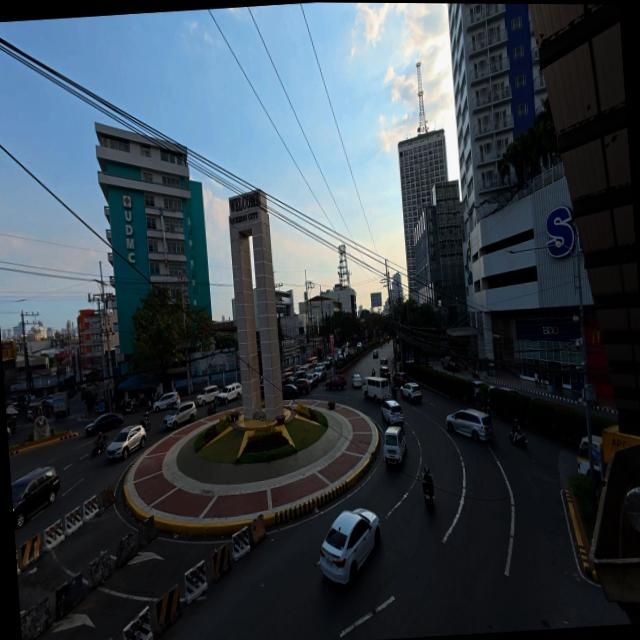car: (320, 509, 380, 585), (11, 466, 60, 528), (446, 408, 494, 441), (107, 425, 146, 460), (163, 402, 197, 429), (85, 413, 123, 437), (382, 400, 404, 425), (154, 391, 180, 412), (400, 382, 422, 402), (326, 374, 346, 390), (27, 401, 43, 419), (293, 378, 311, 394), (473, 380, 486, 400), (443, 356, 460, 371), (289, 370, 306, 384), (393, 372, 410, 386), (282, 385, 298, 399), (306, 373, 319, 388), (498, 387, 520, 395), (315, 365, 326, 381), (352, 375, 362, 388), (380, 366, 390, 379), (282, 373, 293, 384), (260, 378, 265, 400), (315, 361, 325, 371), (323, 358, 332, 368), (284, 367, 295, 373), (380, 358, 388, 366), (373, 350, 379, 359), (7, 427, 11, 439), (344, 352, 350, 359), (356, 343, 362, 350)
motorcycle: (91, 436, 107, 458), (510, 431, 527, 449), (423, 484, 434, 510), (124, 400, 135, 413), (141, 417, 150, 431), (207, 405, 214, 417), (472, 368, 479, 379)
trucks: (593, 425, 639, 471), (53, 391, 69, 418)
vans: (384, 426, 406, 463), (363, 377, 391, 402), (217, 383, 241, 404), (196, 386, 219, 406)
